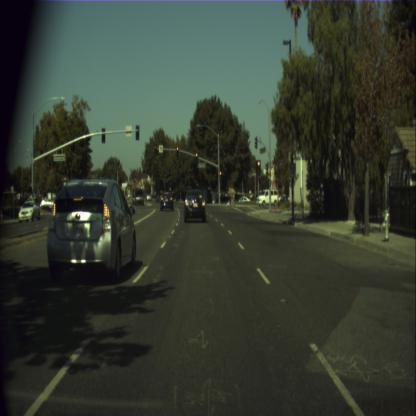Red: (257, 159, 260, 174), (154, 144, 157, 154), (176, 146, 178, 157), (196, 152, 198, 162), (219, 170, 221, 180)
